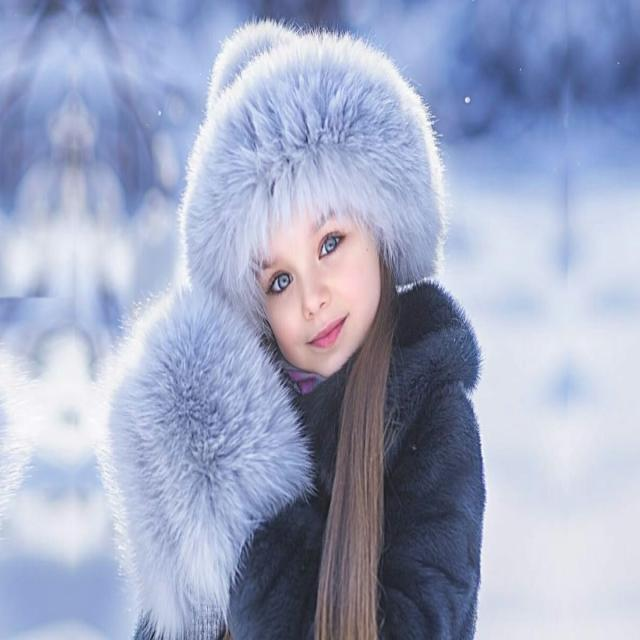child: (112, 37, 484, 640)
